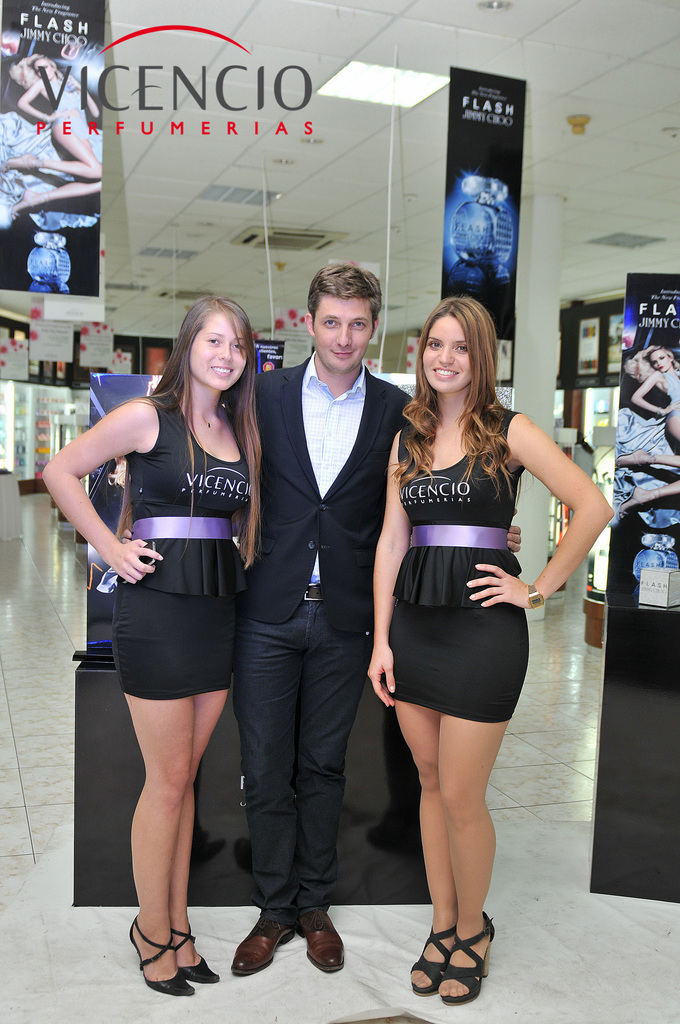person: (0, 102, 102, 223)
